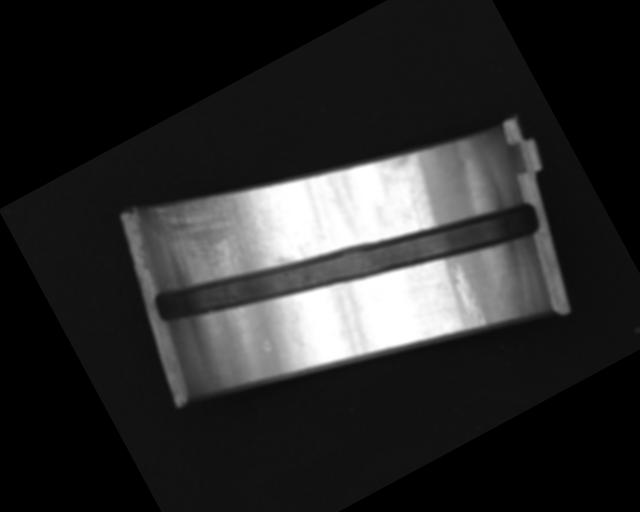bruise: (261, 338, 274, 353)
gap: (150, 116, 546, 408)
nick: (443, 259, 494, 332), (401, 188, 434, 232)
scratch: (136, 156, 299, 318)
